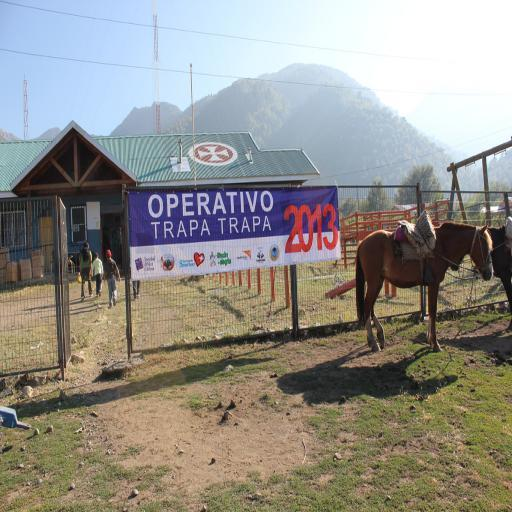horse: (354, 220, 493, 354), (449, 222, 512, 332)
